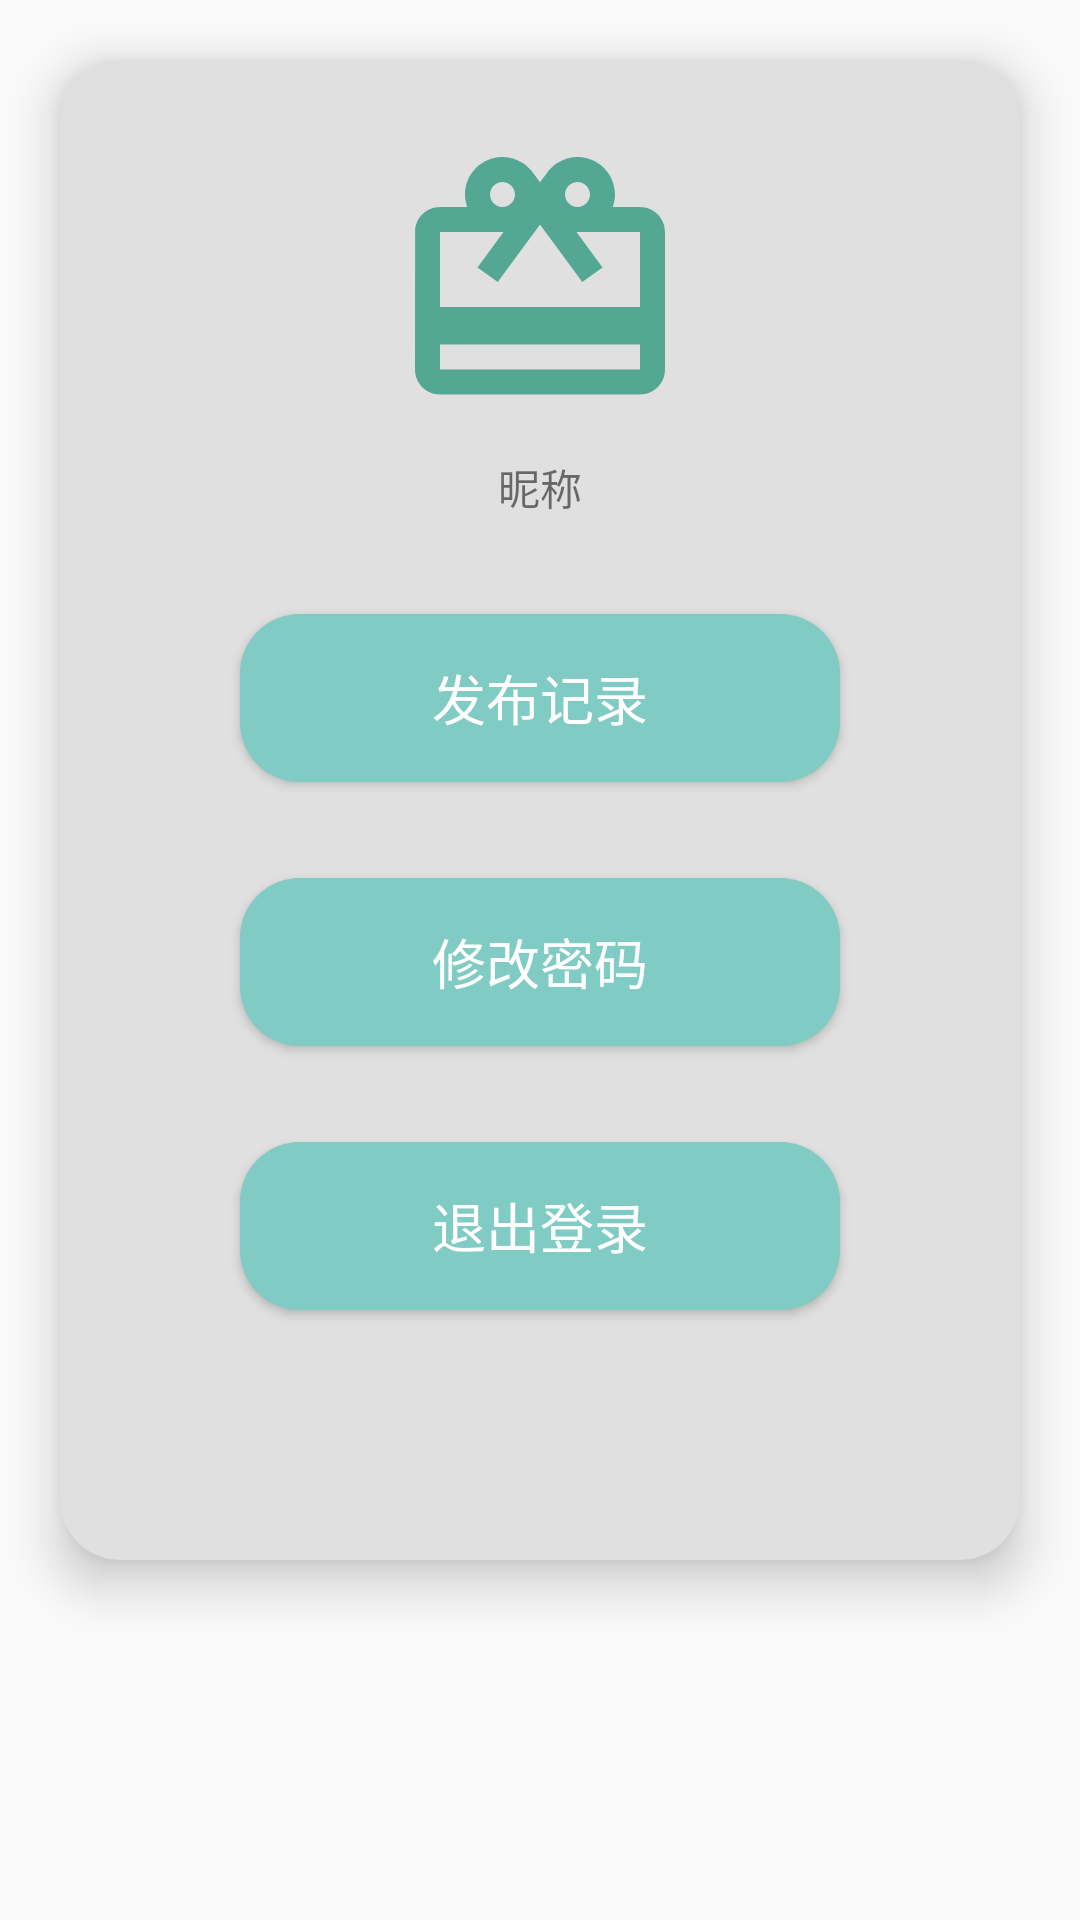

Locate icon controls on the screen. Image size 1080w x 1920h, boxes as bbox=(x1, y1, x2, y2).
redeem: bbox=(415, 157, 665, 395)
